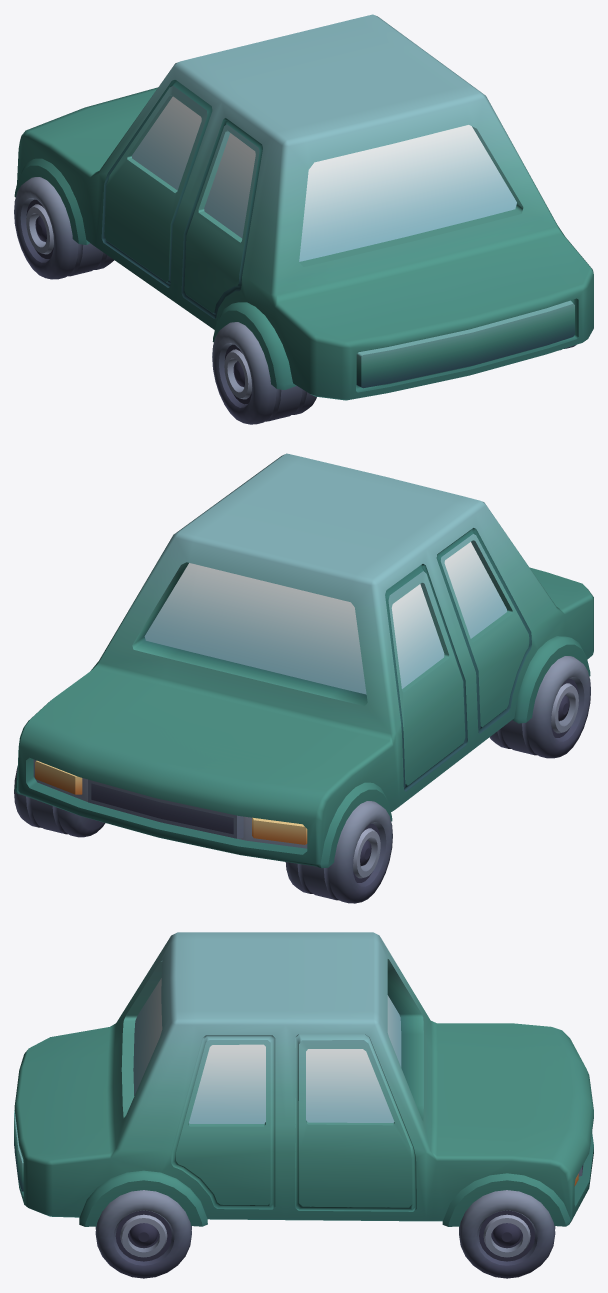
Rendered from SM_Car.fbx.
The picture shows the model from 3 angles, top to bottom: view 1: azimuth 30°, elevation 25°; view 2: azimuth 150°, elevation 25°; view 3: azimuth 270°, elevation 25°; orthographic projection. The views are drawn at different scales.
Parts seen in each view (by area): view 1: Cube; view 2: Cube; view 3: Cube.
Boxes of the visible parts, left/top/right/bottom form: Cube: left=14, top=14, right=593, bottom=424; Cube: left=14, top=453, right=593, bottom=903; Cube: left=14, top=932, right=593, bottom=1278.
Size of the model in its own units: 223 by 161 by 364.
